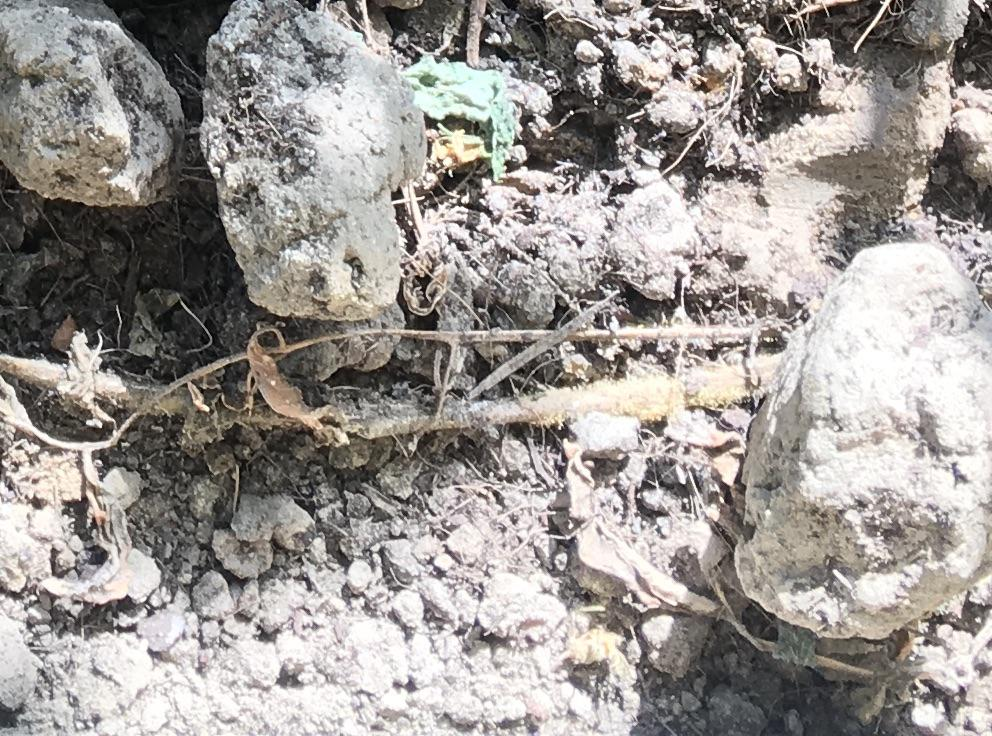block: (738, 240, 992, 644), (205, 2, 423, 327), (1, 2, 191, 207)
